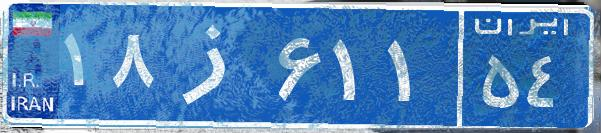1: (385, 28, 445, 110), (330, 28, 385, 110), (57, 26, 110, 107)
4: (525, 38, 570, 115)
5: (475, 38, 525, 113)
6: (273, 28, 330, 110)
8: (110, 28, 158, 105)
ز: (158, 15, 273, 115)
